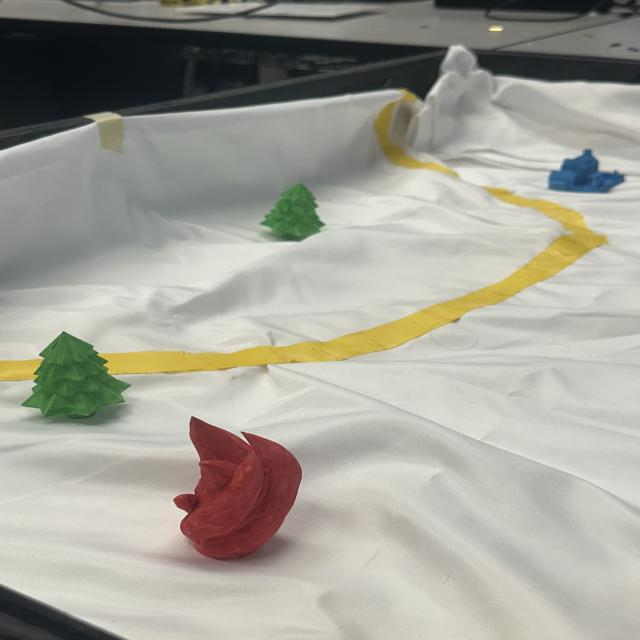fire: (170, 413, 304, 561)
house: (544, 146, 626, 195)
tree: (20, 329, 132, 421), (260, 182, 327, 240)
